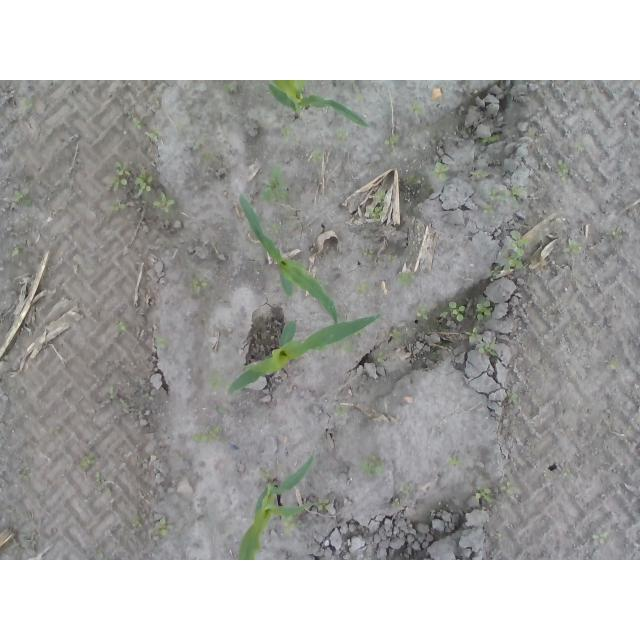Maize: (238, 192, 339, 325), (223, 313, 378, 396), (238, 455, 314, 560), (267, 80, 369, 128)
Weeds: (102, 161, 155, 195), (259, 163, 290, 201), (485, 186, 528, 203), (192, 426, 225, 447), (362, 452, 387, 478), (367, 189, 386, 219), (448, 301, 469, 324), (475, 295, 493, 321), (471, 486, 493, 506), (153, 192, 175, 212), (511, 232, 529, 256), (154, 518, 174, 539), (384, 133, 400, 156), (397, 271, 417, 289), (79, 451, 97, 471), (434, 162, 451, 183), (561, 238, 583, 254), (544, 469, 576, 480), (192, 277, 211, 295), (504, 255, 523, 273), (208, 371, 225, 391), (477, 342, 498, 357), (110, 201, 130, 216), (16, 191, 33, 208), (126, 111, 142, 129), (527, 129, 545, 145), (464, 327, 480, 344), (145, 128, 162, 143), (17, 464, 32, 481), (555, 159, 569, 177), (389, 328, 403, 345), (106, 384, 119, 401), (592, 532, 609, 545), (407, 101, 425, 113), (416, 303, 428, 321), (257, 467, 272, 481), (283, 515, 298, 529), (312, 146, 325, 162), (399, 481, 413, 495), (336, 129, 349, 144), (20, 97, 33, 112), (500, 481, 513, 496), (342, 339, 355, 354), (112, 321, 128, 333), (356, 283, 375, 293), (448, 454, 465, 465), (610, 227, 623, 241), (470, 170, 489, 179), (408, 175, 425, 185), (131, 516, 145, 528), (157, 336, 169, 349), (334, 404, 346, 417), (482, 205, 496, 216), (143, 391, 158, 401), (316, 498, 328, 510), (375, 352, 386, 365), (11, 247, 25, 257), (480, 136, 497, 144), (362, 248, 377, 257), (212, 407, 224, 418), (355, 95, 366, 106), (222, 83, 232, 94), (491, 266, 502, 276), (280, 128, 289, 137), (392, 498, 401, 507), (272, 224, 281, 233), (511, 391, 519, 401)
